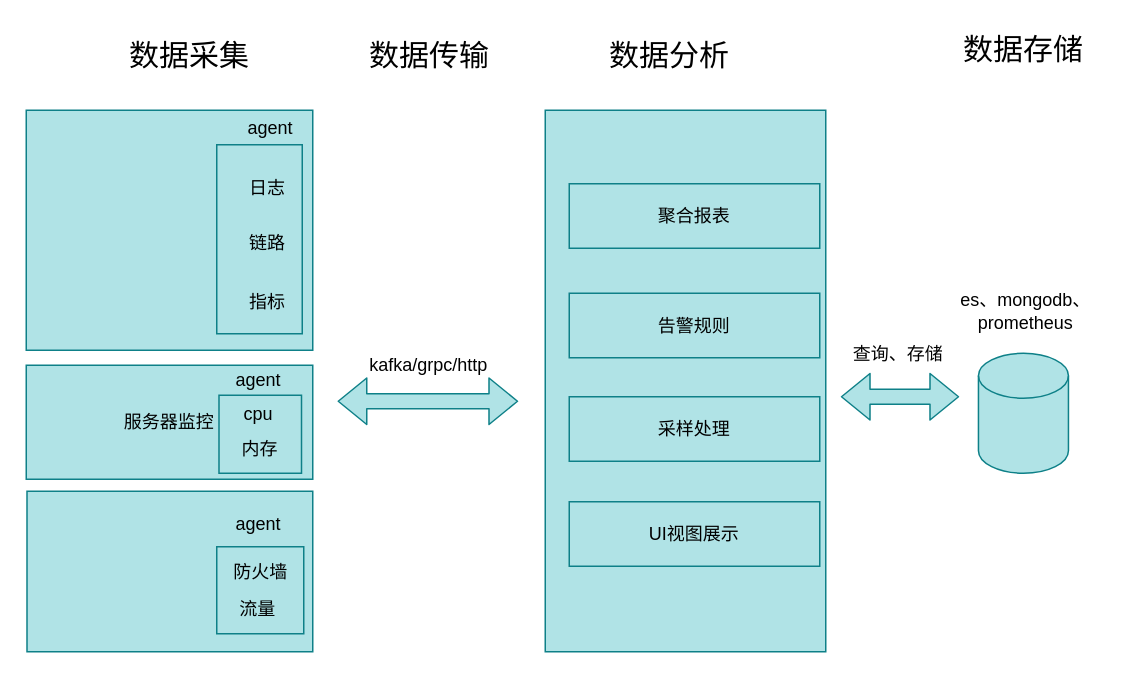
The diagram is 1134 pixels wide and 678 high, and some of its shapes have lost their labels. The shapes that lost their labels are listed below. From the top down, each one's box as (x1, y1, x2, y2) in pixels, then its label:
(25, 109, 313, 350): 应用监控
(26, 490, 313, 652): 网络监控
